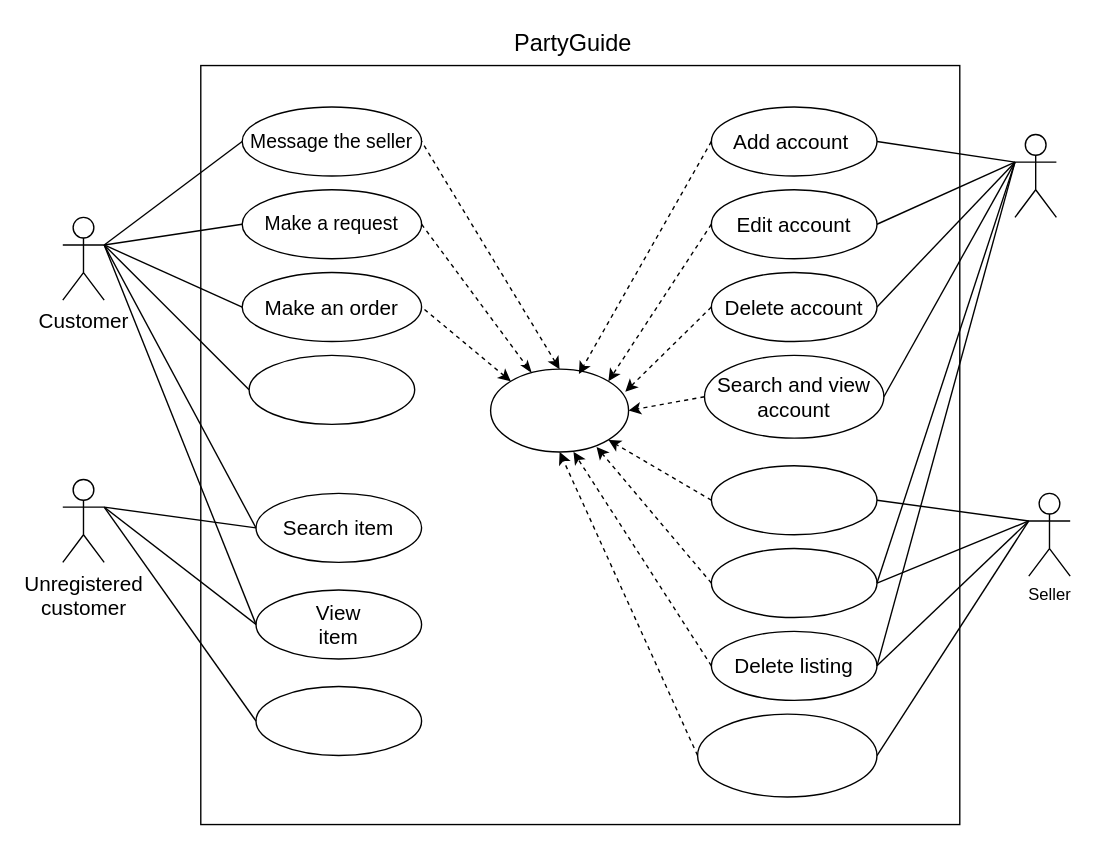
The diagram is 1094 pixels wide and 849 high, and some of its shapes have lost their labels. The centre of each missing label's shape, as x and y in pixels:
"Add listing" goes at [793,499].
"Admin" goes at [1035,175].
"Edit listingt" goes at [793,582].
"Lo gin" goes at [559,410].
"Register" goes at [338,720].
"Respond to messages" goes at [786,755].
"View purchase history" goes at [331,389].
